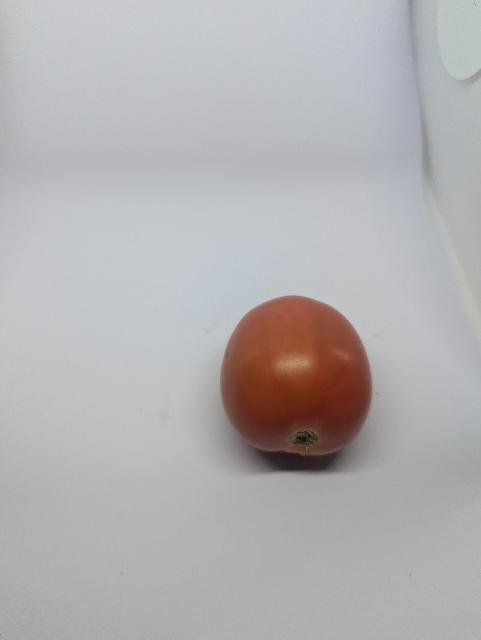red: (217, 292, 378, 480)
